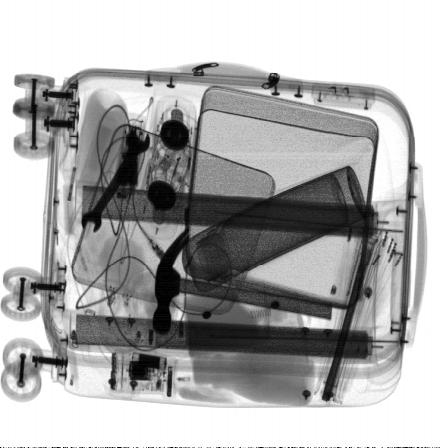Hammer: (152, 224, 332, 333)
Wrench: (80, 125, 151, 232)
